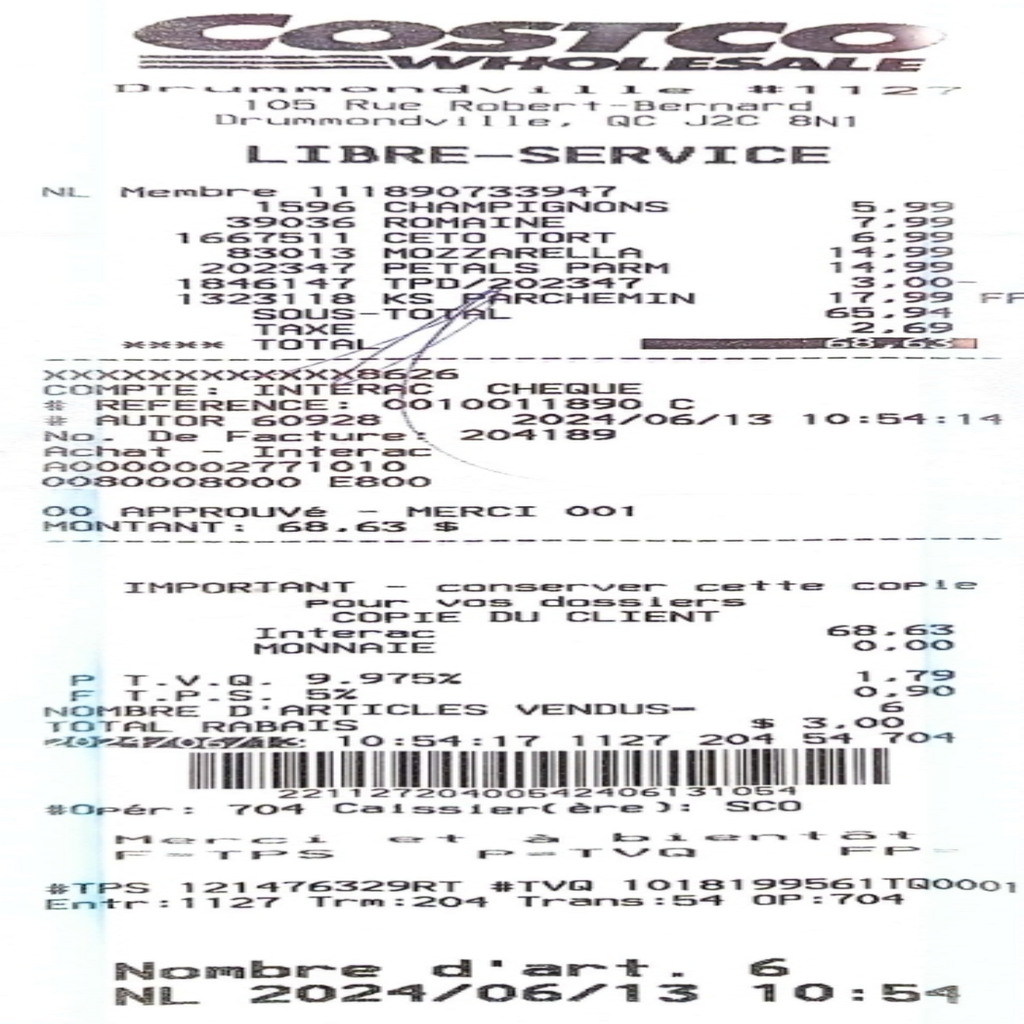recipt: (2, 0, 1022, 1022)
